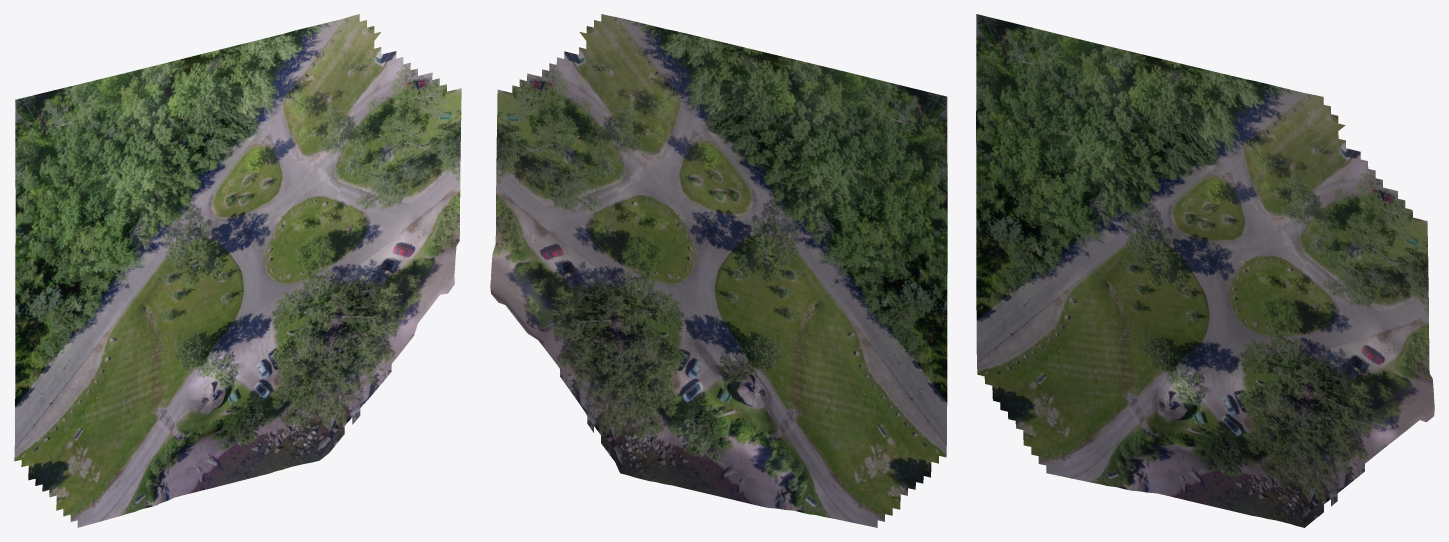
The model's file is odm_textured_model.obj.
3 views of the same model, side by side, from view 1: azimuth 30°, elevation 25°; view 2: azimuth 150°, elevation 25°; view 3: azimuth 330°, elevation 25° (orthographic).
Bounding box in the file's own units: 99.43 × 94.54 × 5.81.
1 material, 1 textured.
